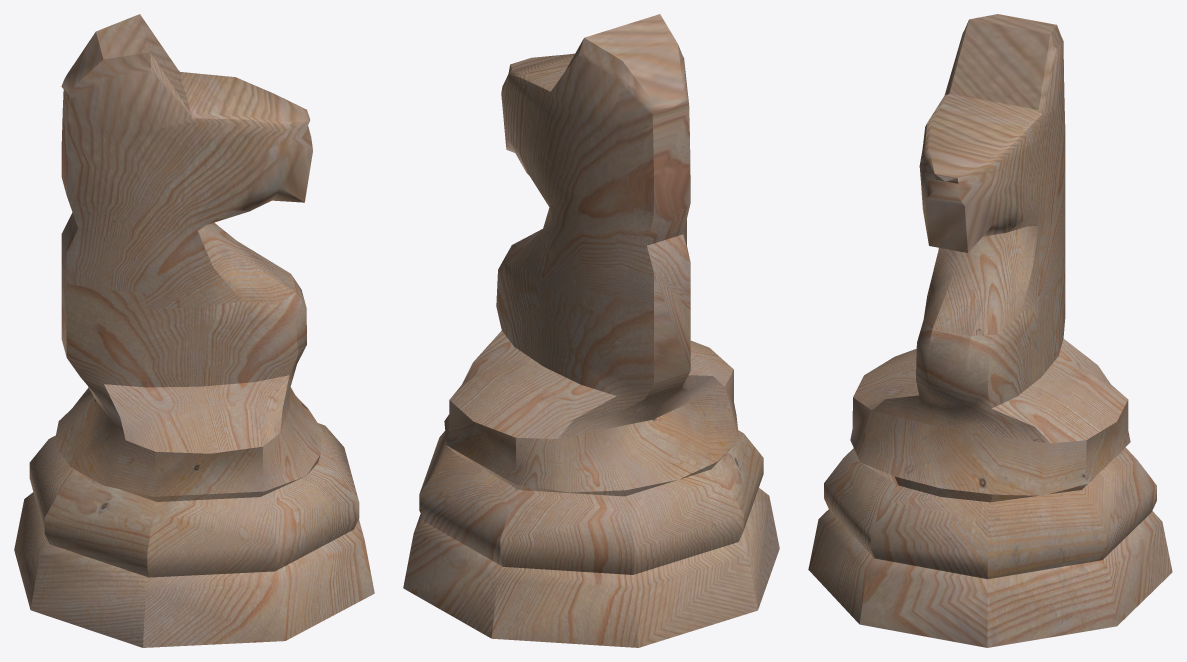
File: knight_white.fbx
The picture shows the model from 3 angles, left to right: view 1: azimuth 30°, elevation 25°; view 2: azimuth 150°, elevation 25°; view 3: azimuth 270°, elevation 25°; orthographic projection. The views are drawn at different scales.
Parts seen in each view (by area): view 1: WhiteKnight.001; view 2: WhiteKnight.001; view 3: WhiteKnight.001.
Boxes of the visible parts, left/top/right/bottom form: WhiteKnight.001: left=14, top=14, right=374, bottom=647; WhiteKnight.001: left=403, top=14, right=779, bottom=647; WhiteKnight.001: left=808, top=14, right=1172, bottom=647.
Size of the model in its own units: 2.97 by 4.72 by 2.97.
Materials: 1 (1 with a texture image).
